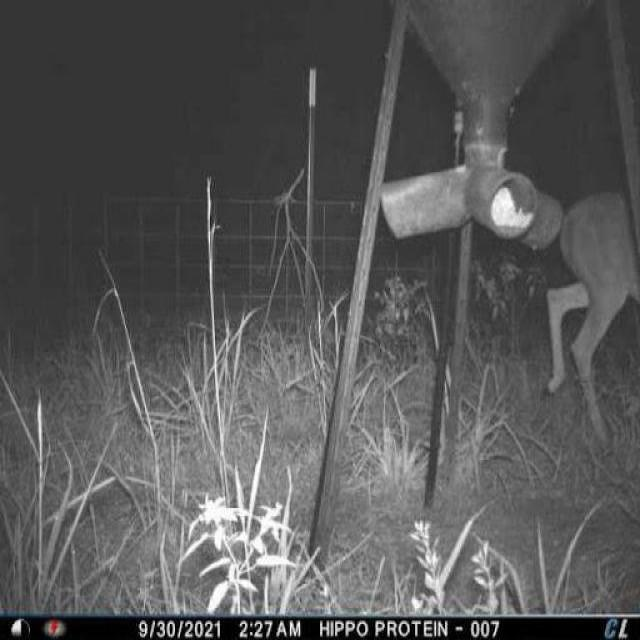deer: (536, 172, 640, 455)
